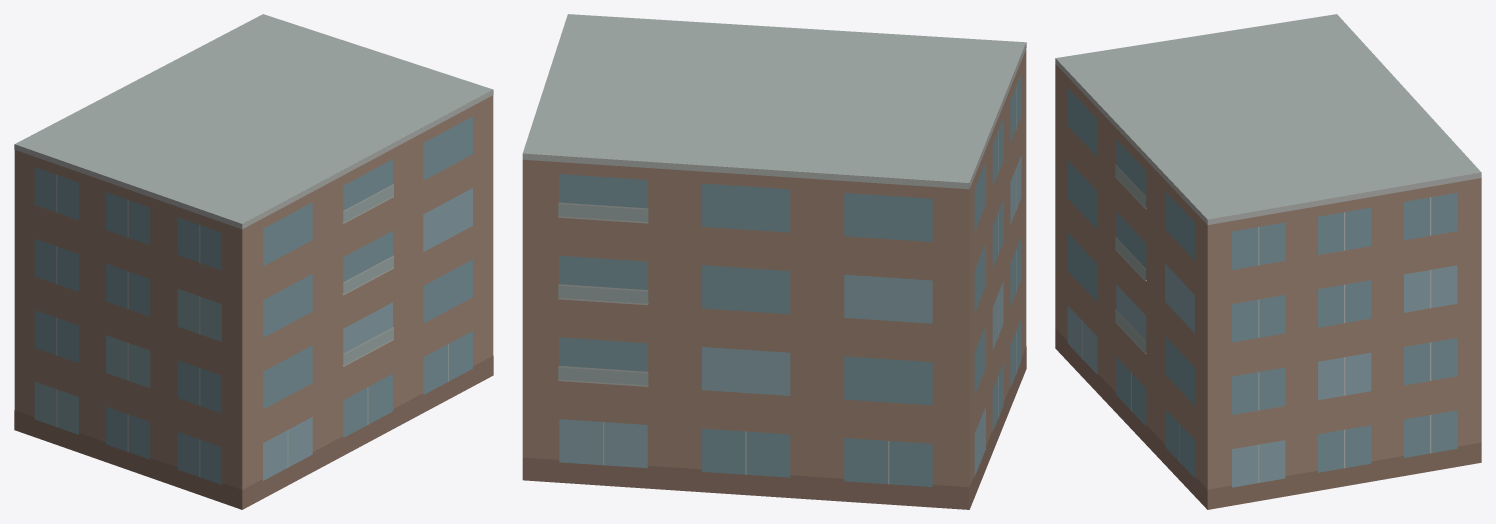
File: survey-upis-32737759.glb
The picture shows the model from 3 angles, left to right: view 1: azimuth 30°, elevation 25°; view 2: azimuth 150°, elevation 25°; view 3: azimuth 270°, elevation 25°; orthographic projection. The views are drawn at different scales.
Visible parts, largest first — view 1: survey-upis-32737759.tmp; view 2: survey-upis-32737759.tmp; view 3: survey-upis-32737759.tmp.
Boxes of the visible parts, x1,y1,x2,y2 form: survey-upis-32737759.tmp: [14, 14, 493, 509]; survey-upis-32737759.tmp: [522, 14, 1026, 509]; survey-upis-32737759.tmp: [1055, 14, 1481, 509].
Size of the model in its own units: 19.62 by 12.9 by 17.18.
